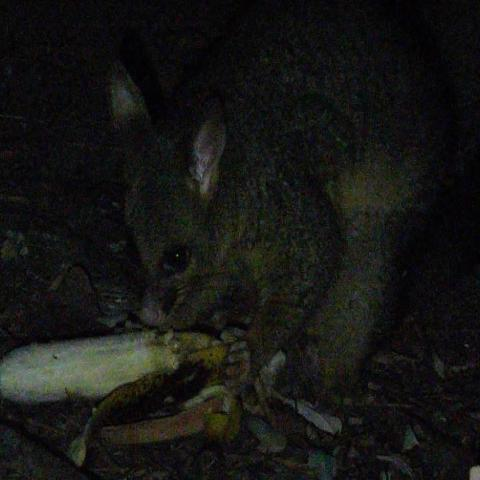small_animal: (102, 29, 444, 399)
